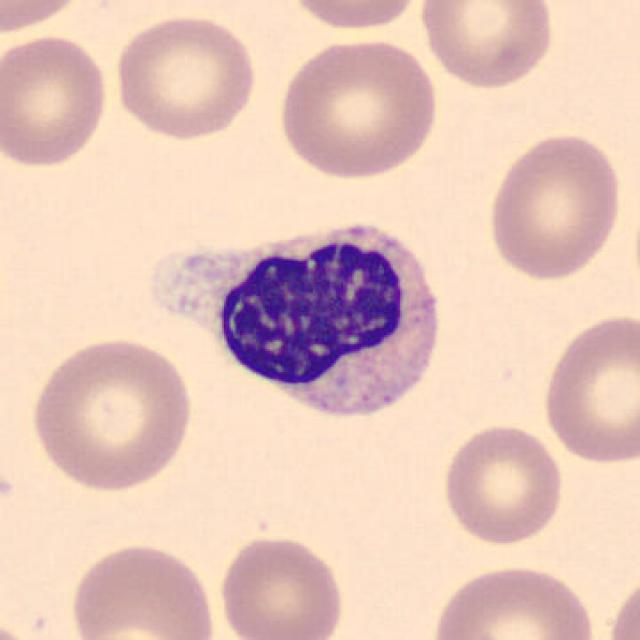Neutrophil: (144, 207, 455, 438)
RBC: (25, 334, 195, 496), (274, 34, 442, 182), (484, 129, 626, 284), (108, 9, 260, 143), (439, 419, 567, 546), (65, 537, 220, 640), (537, 309, 638, 467), (0, 30, 112, 171), (215, 530, 348, 640), (426, 560, 602, 640), (414, 0, 558, 92), (282, 0, 428, 35), (0, 0, 91, 39), (604, 567, 639, 640)
